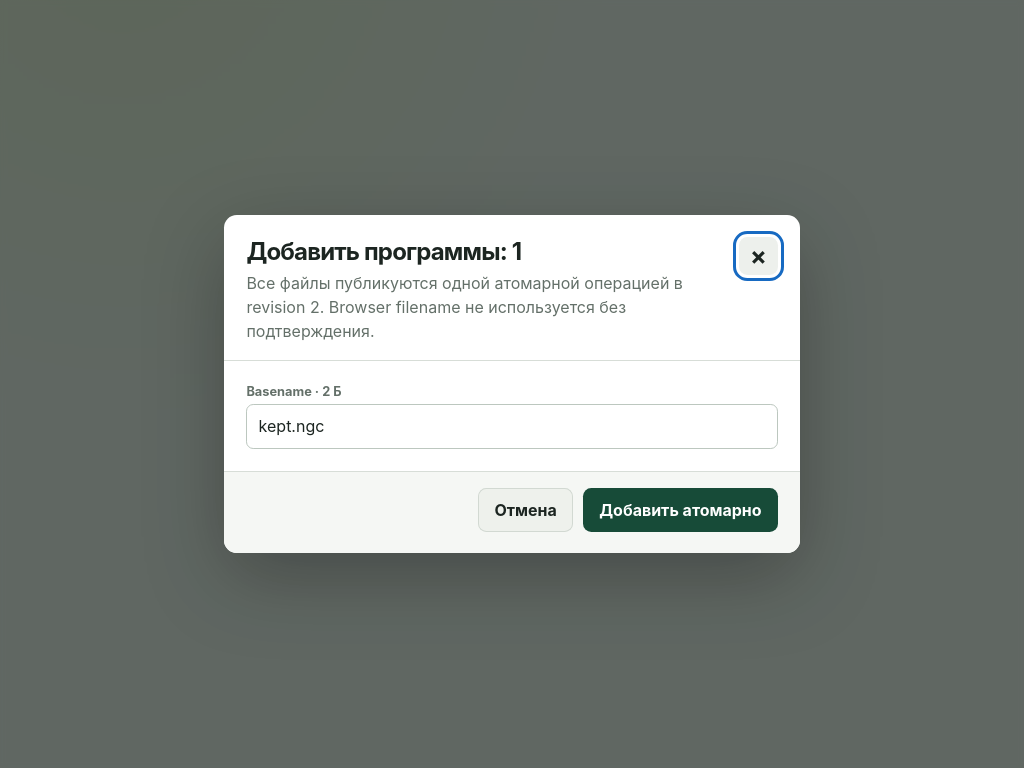
Test: program operation dialogs › keeps selected files and basenames after a terminal revision conflict
Step 1. Click the button "Добавить атомарно" → (680, 510), box [583, 488, 778, 532]
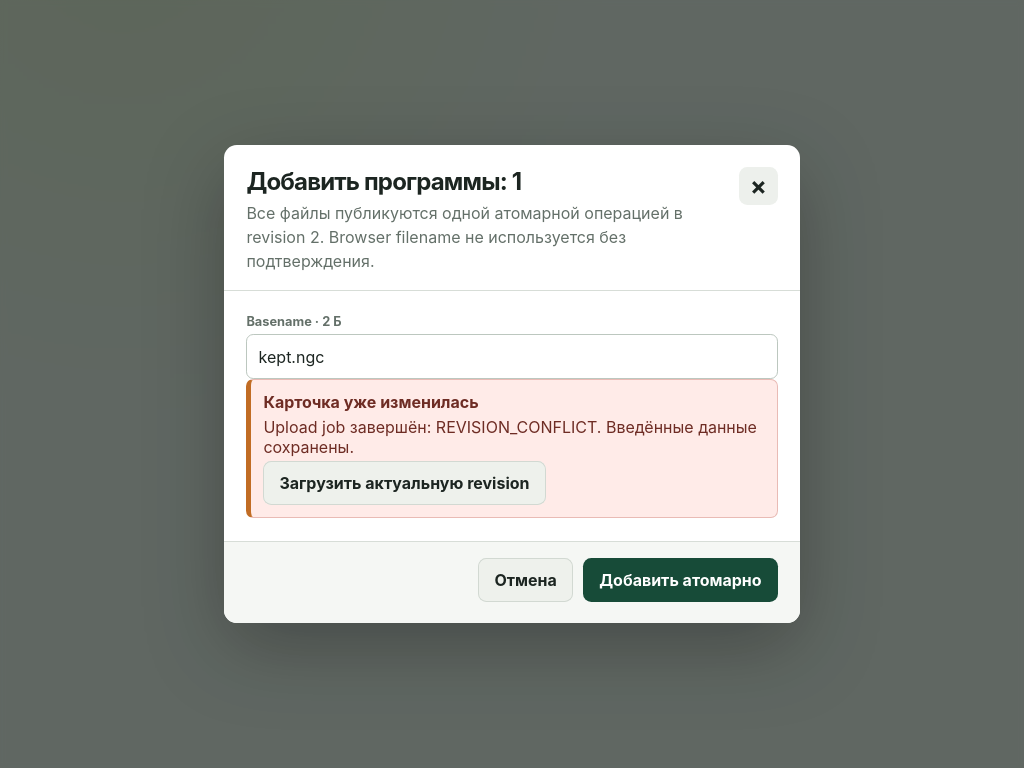
Expected: the field named "Basename kept.ngc" holds "kept.ngc", [246, 334, 778, 379]
Expected: the message shows "REVISION_CONFLICT", [263, 417, 602, 437]
